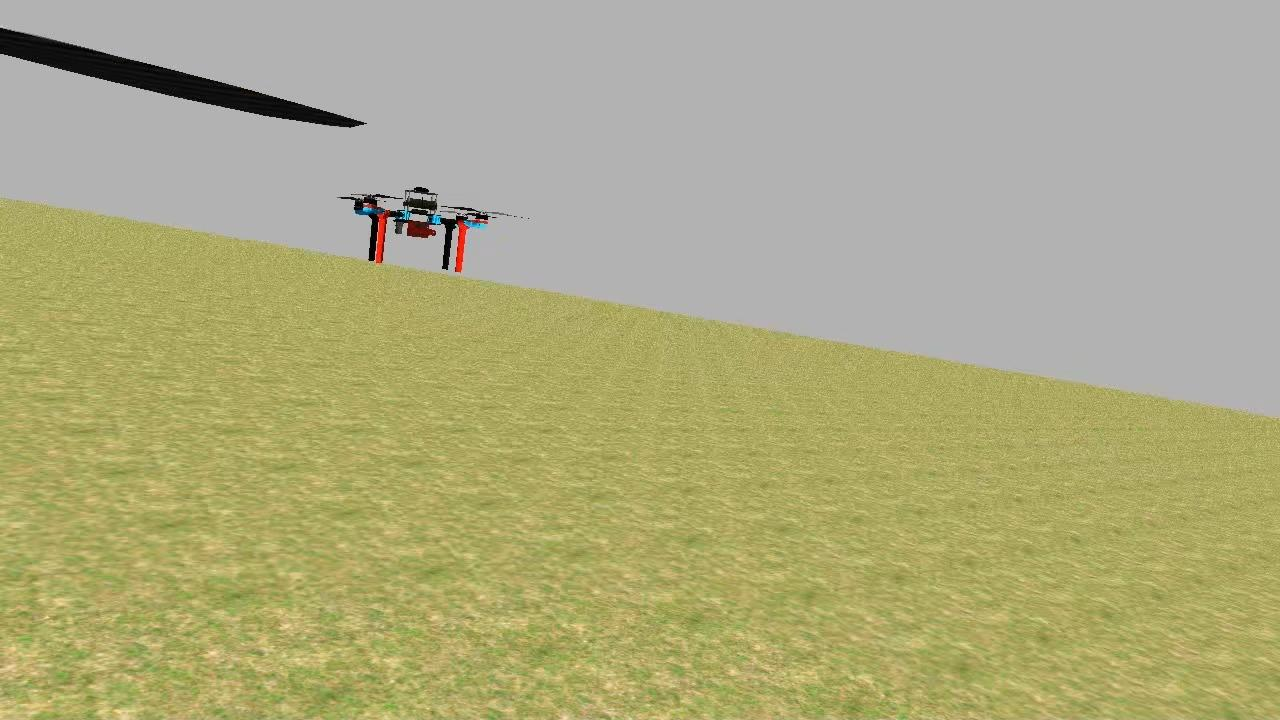UAV: (346, 178, 496, 274)
